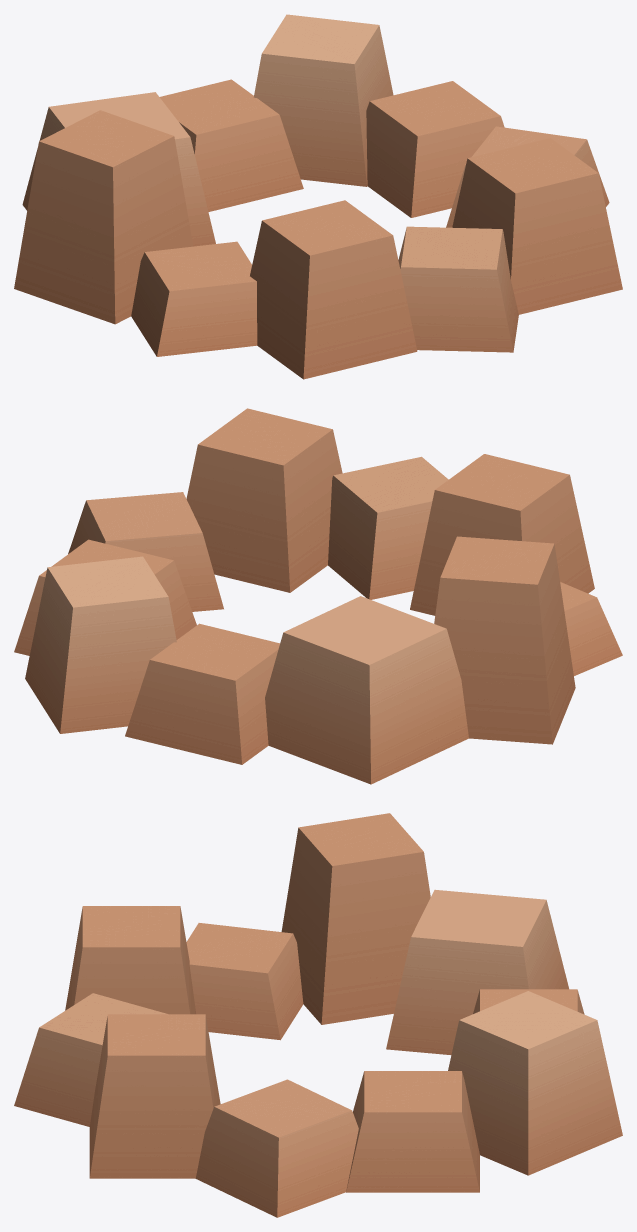
The model's file is campfire-pit_lev3.glb.
3 renders of one model, top to bottom at view 1: azimuth 30°, elevation 25°; view 2: azimuth 150°, elevation 25°; view 3: azimuth 270°, elevation 25°, orthographic. The views are drawn at different scales.
Visible parts, largest first — view 1: campfire-pit_lev3; view 2: campfire-pit_lev3; view 3: campfire-pit_lev3.
Boxes of the visible parts, left/top/right/bottom form: campfire-pit_lev3: left=14, top=14, right=622, bottom=379; campfire-pit_lev3: left=14, top=408, right=622, bottom=784; campfire-pit_lev3: left=14, top=813, right=622, bottom=1217.
Bounding box in the file's own units: 2.38 × 0.6237 × 2.31.
1 material, 1 textured.
